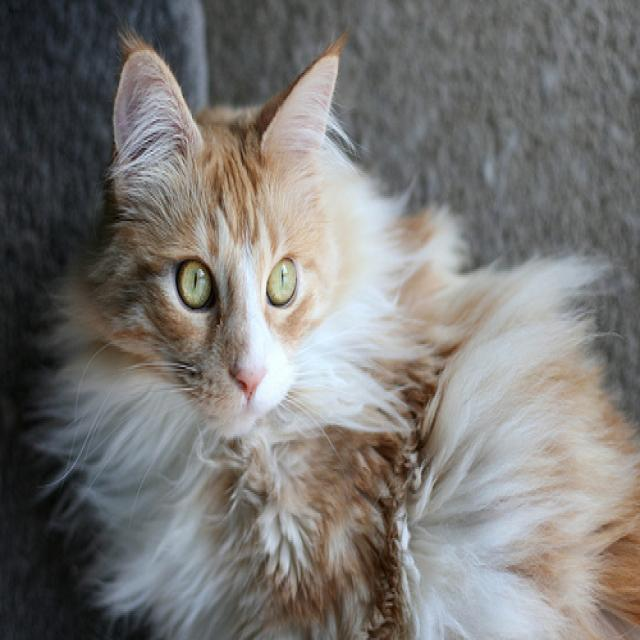Maine_Coon: (111, 41, 338, 437)
